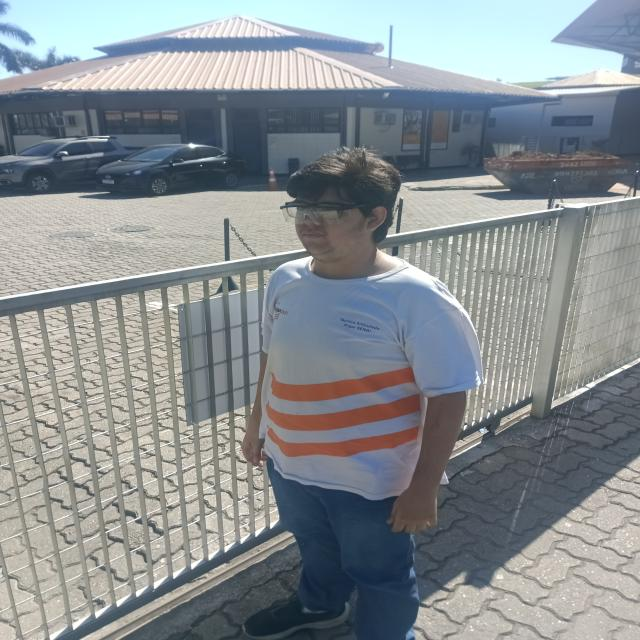oculos-epi: (280, 200, 364, 225)
